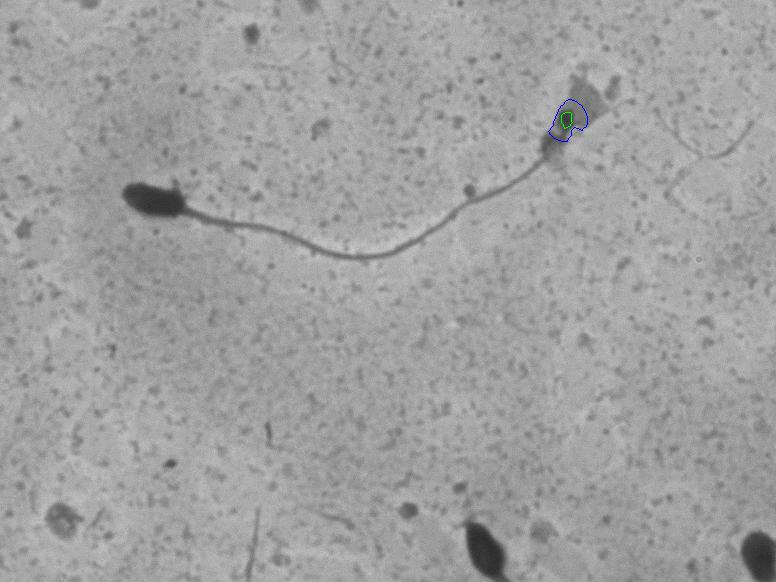Abnormal: (58, 94, 553, 300)
